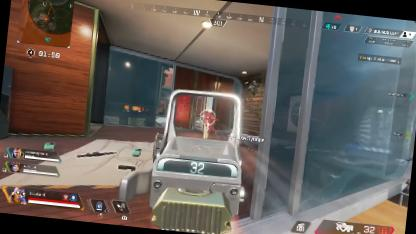Target: (207, 110, 216, 133), (202, 109, 208, 128)
